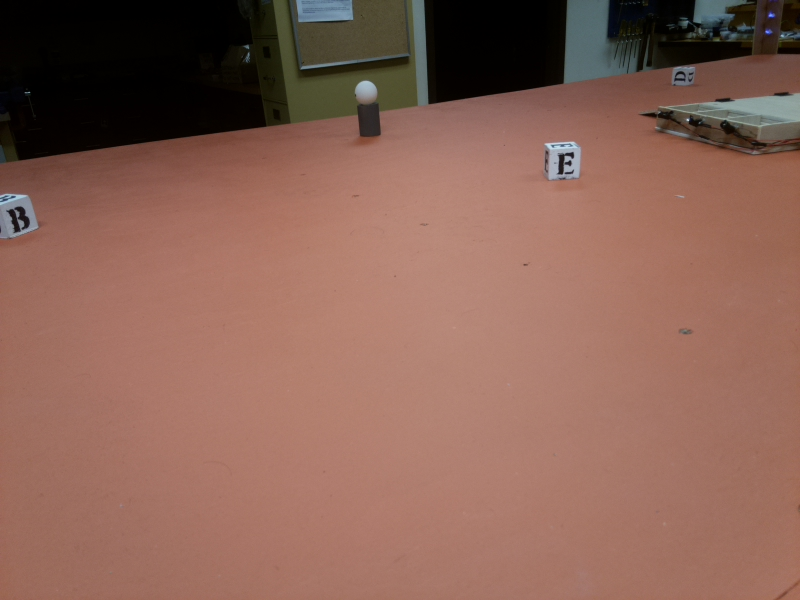blockB: (1, 185, 37, 242)
blockD: (671, 62, 696, 89)
blockE: (542, 140, 585, 181)
obstacle: (352, 80, 385, 136)
side: (654, 106, 762, 160)
